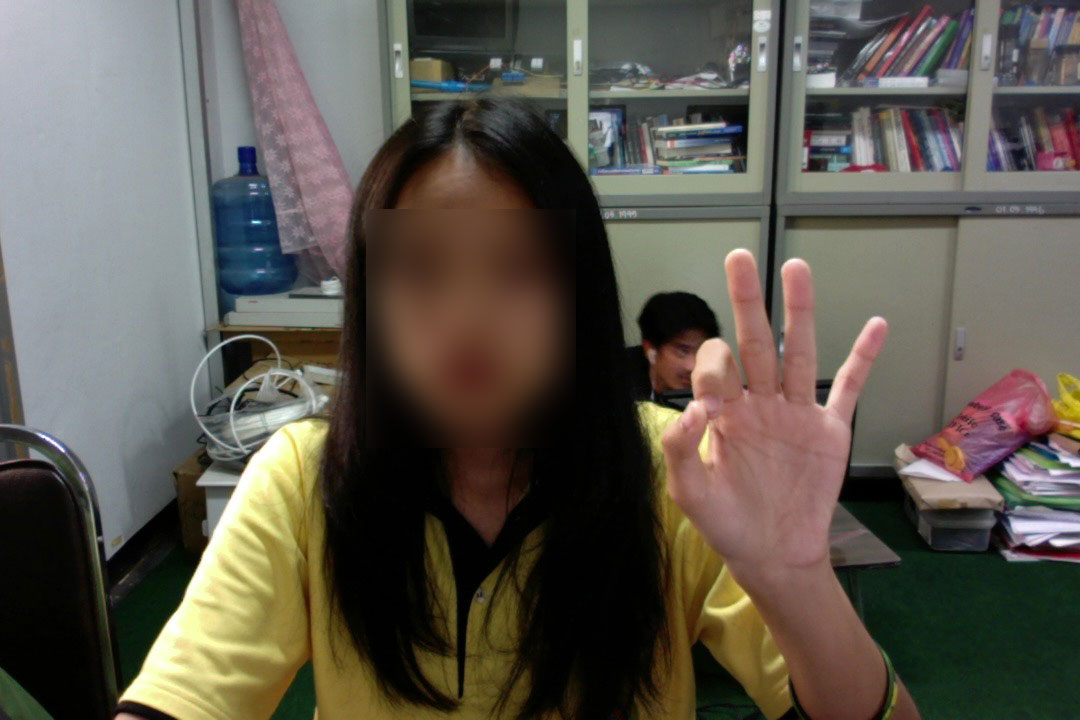for: (653, 242, 892, 581)
